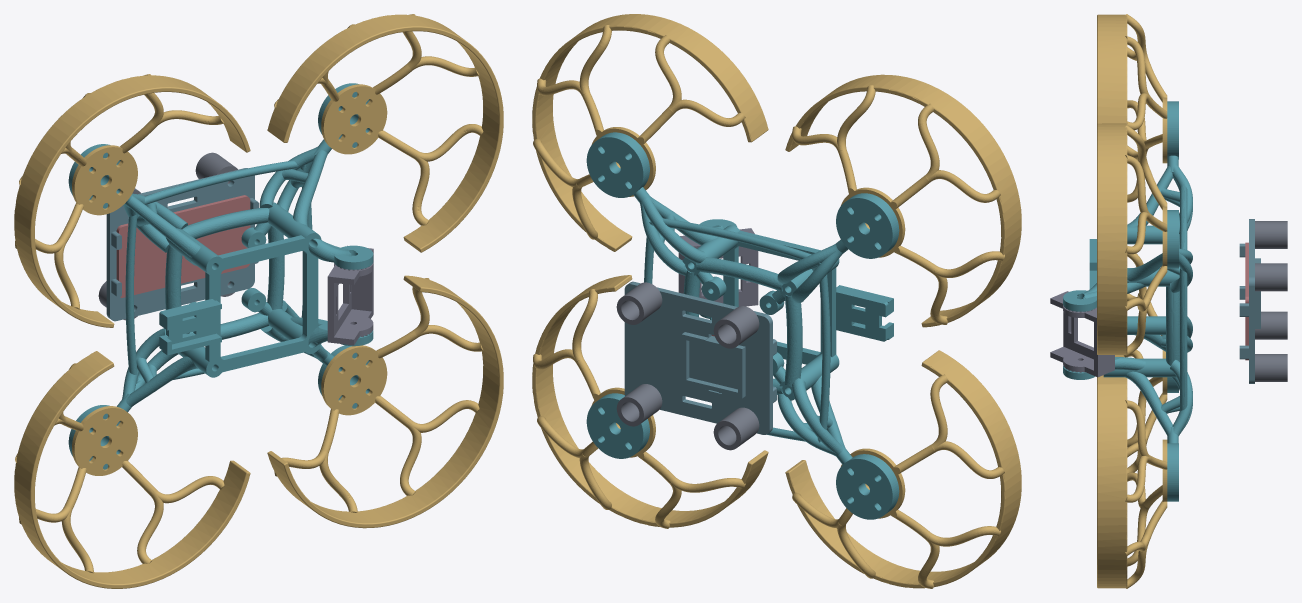
Rendered from Assembly.glb.
3 renders of one model, left to right at view 1: azimuth 30°, elevation 25°; view 2: azimuth 150°, elevation 25°; view 3: azimuth 270°, elevation 25°, orthographic. The views are drawn at different scales.
Visible parts, largest first — view 1: Frame_PETG, Guard_1_PETG, Guard_3_PETG, Guard_2_PETG, Guard_4_PETG, BottomPlate_PETG, BatteryPad_TPU, CameraCradle_TPU, Foot_4_TPU; view 2: Frame_PETG, BottomPlate_PETG, Guard_3_PETG, Guard_1_PETG, Guard_4_PETG, Guard_2_PETG, Foot_1_TPU, Foot_3_TPU, Foot_4_TPU, Foot_2_TPU, CameraCradle_TPU; view 3: Frame_PETG, Guard_1_PETG, Guard_2_PETG, Guard_4_PETG, CameraCradle_TPU, Guard_3_PETG, BottomPlate_PETG, Foot_4_TPU, Foot_2_TPU, Foot_3_TPU, Foot_1_TPU, BatteryPad_TPU.
Part boxes in pixels (bbox=[...]): Frame_PETG: bbox=[68, 83, 373, 469]; Guard_1_PETG: bbox=[267, 14, 503, 252]; Guard_3_PETG: bbox=[14, 351, 250, 588]; Guard_2_PETG: bbox=[267, 275, 503, 528]; Guard_4_PETG: bbox=[14, 74, 250, 327]; BottomPlate_PETG: bbox=[106, 168, 258, 321]; BatteryPad_TPU: bbox=[116, 195, 250, 297]; CameraCradle_TPU: bbox=[327, 245, 373, 345]; Foot_4_TPU: bbox=[195, 152, 237, 183]; Frame_PETG: bbox=[586, 132, 899, 519]; BottomPlate_PETG: bbox=[624, 281, 776, 434]; Guard_3_PETG: bbox=[785, 350, 1021, 588]; Guard_1_PETG: bbox=[532, 14, 768, 251]; Guard_4_PETG: bbox=[785, 74, 1021, 327]; Guard_2_PETG: bbox=[532, 275, 768, 528]; Foot_1_TPU: bbox=[713, 407, 759, 450]; Foot_3_TPU: bbox=[616, 384, 662, 426]; Foot_4_TPU: bbox=[616, 282, 662, 324]; Foot_2_TPU: bbox=[713, 306, 759, 348]; CameraCradle_TPU: bbox=[678, 228, 758, 306]; Frame_PETG: bbox=[1063, 101, 1192, 501]; Guard_1_PETG: bbox=[1097, 123, 1167, 355]; Guard_2_PETG: bbox=[1097, 384, 1167, 588]; Guard_4_PETG: bbox=[1097, 14, 1167, 202]; CameraCradle_TPU: bbox=[1050, 291, 1114, 377]; Guard_3_PETG: bbox=[1097, 253, 1167, 473]; BottomPlate_PETG: bbox=[1239, 219, 1260, 383]; Foot_4_TPU: bbox=[1255, 263, 1287, 291]; Foot_2_TPU: bbox=[1255, 221, 1287, 248]; Foot_3_TPU: bbox=[1255, 354, 1287, 381]; Foot_1_TPU: bbox=[1255, 311, 1287, 339]; BatteryPad_TPU: bbox=[1245, 242, 1248, 360].
Bounding box in the file's own units: 209 × 209 × 102.
